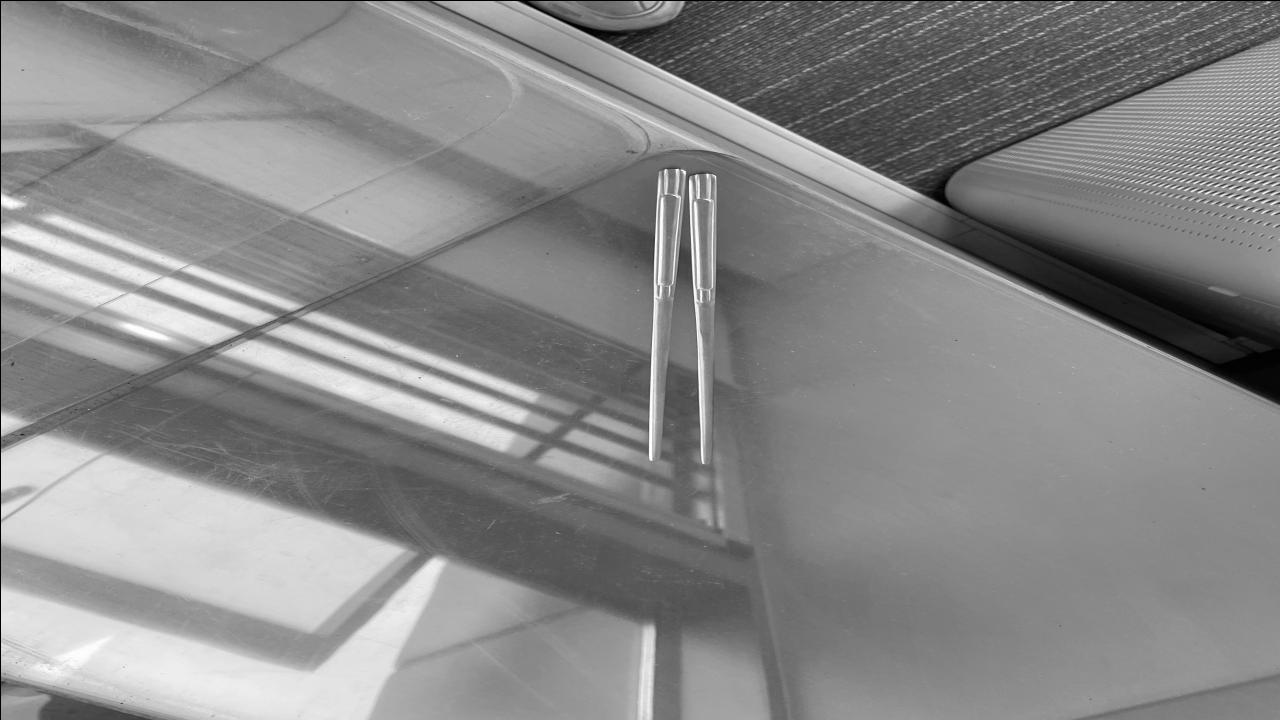chopstick: (644, 162, 725, 466)
